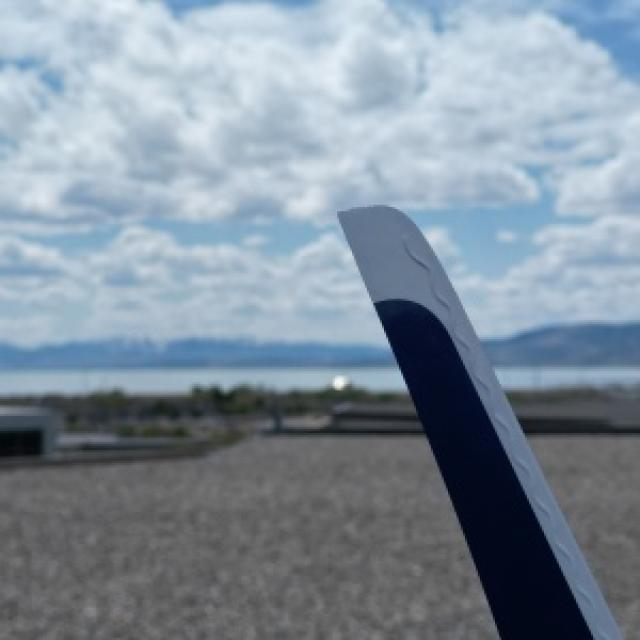healthy: (337, 203, 621, 638)
